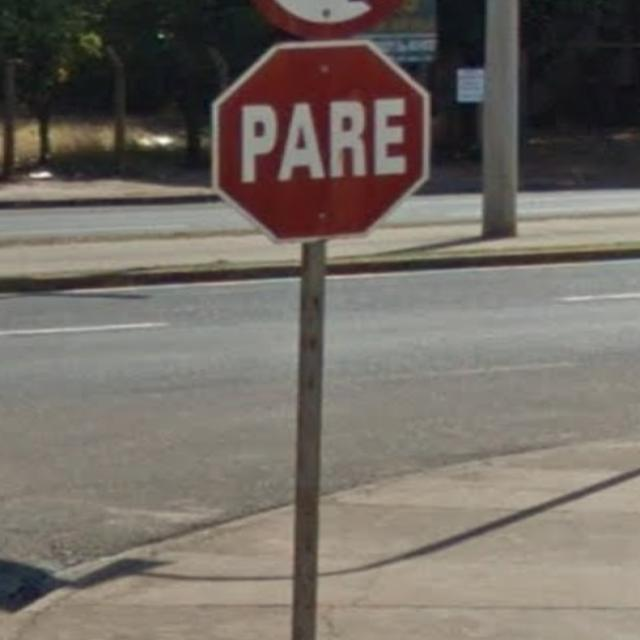stop: (176, 24, 456, 256)
